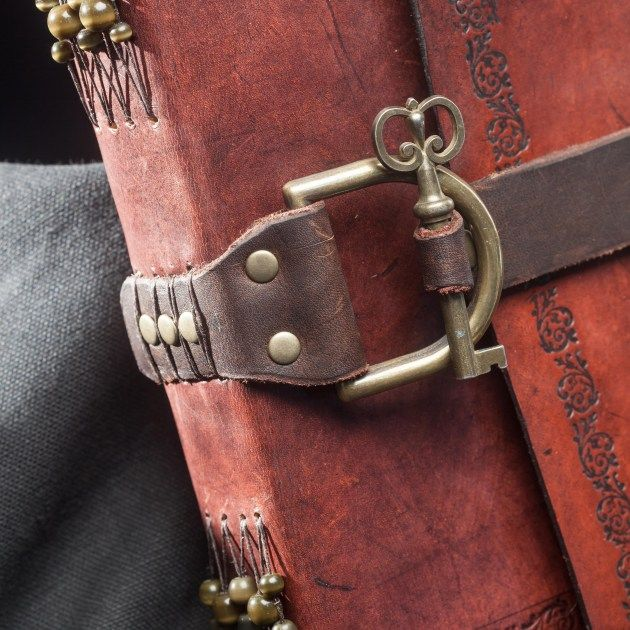cuero: (49, 1, 630, 630)
